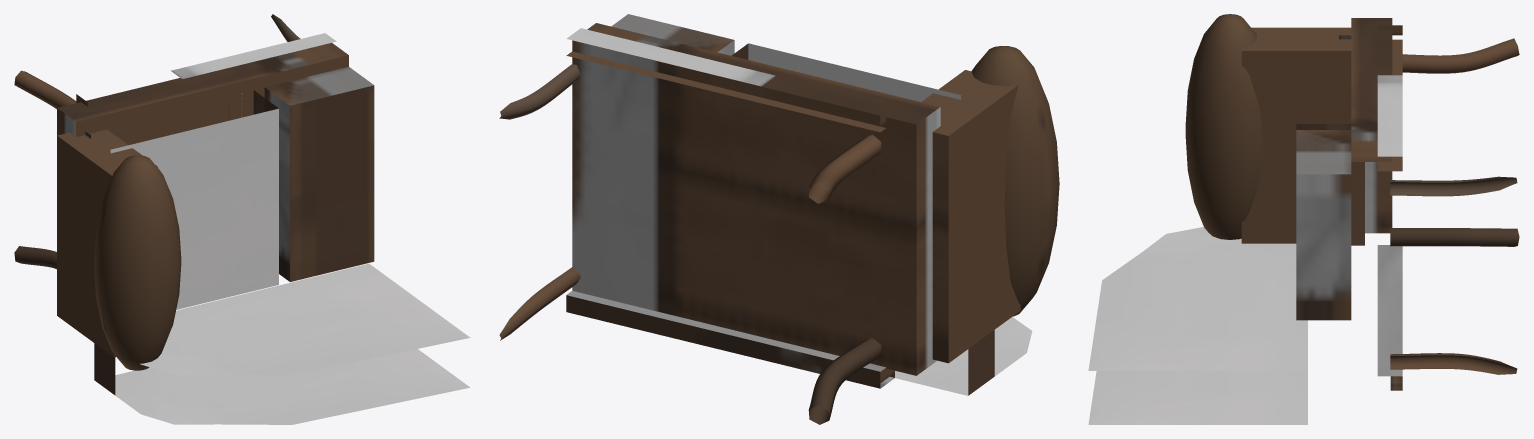
Rendered from section-2.obj.
3 renders of one model, left to right at view 1: azimuth 30°, elevation 25°; view 2: azimuth 150°, elevation 25°; view 3: azimuth 270°, elevation 25°, orthographic. The views are drawn at different scales.
Size of the model in its own units: 0.9018 by 0.702 by 1.02.
